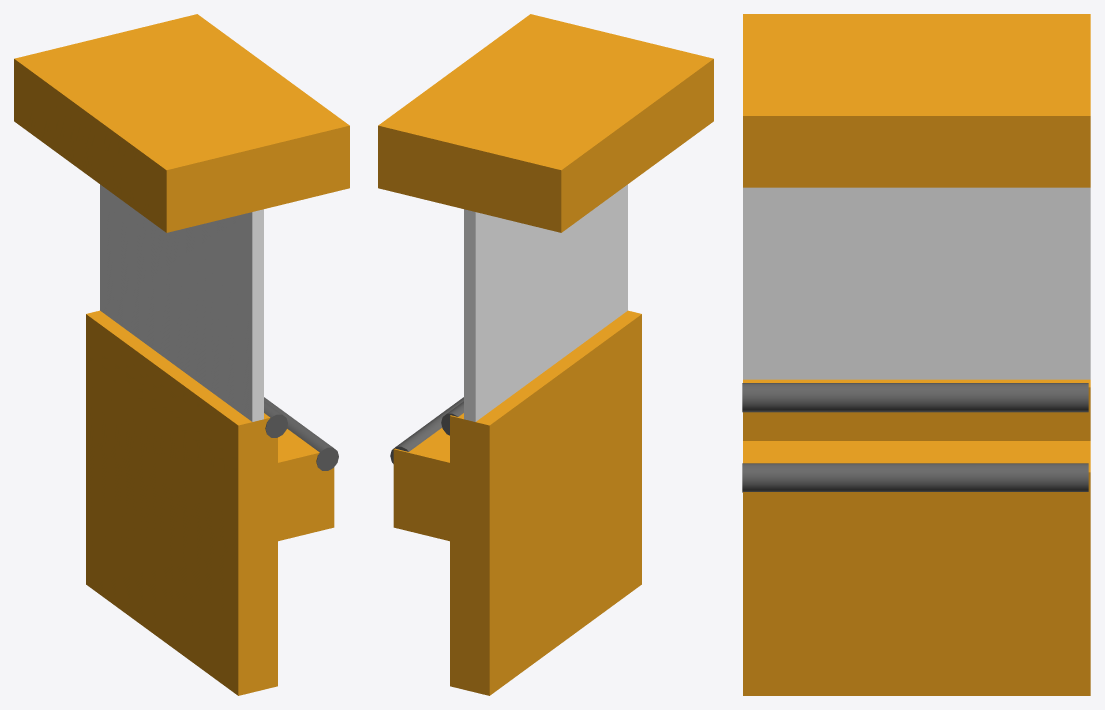
File: MuroCristal.fbx
3 views of the same model, side by side, from view 1: azimuth 30°, elevation 25°; view 2: azimuth 150°, elevation 25°; view 3: azimuth 270°, elevation 25° (orthographic). The views are drawn at different scales.
Parts seen in each view (by area): view 1: Mesh, Vidrio; view 2: Mesh, Vidrio; view 3: Mesh, Vidrio.
Part boxes in pixels (left/top/right/bottom): Mesh: left=14, top=14, right=349, bottom=695; Vidrio: left=100, top=184, right=263, bottom=421; Mesh: left=378, top=14, right=713, bottom=695; Vidrio: left=464, top=184, right=627, bottom=421; Mesh: left=742, top=14, right=1090, bottom=695; Vidrio: left=743, top=187, right=1090, bottom=379.
Bounding box in the file's own units: 245 × 693 × 353.
